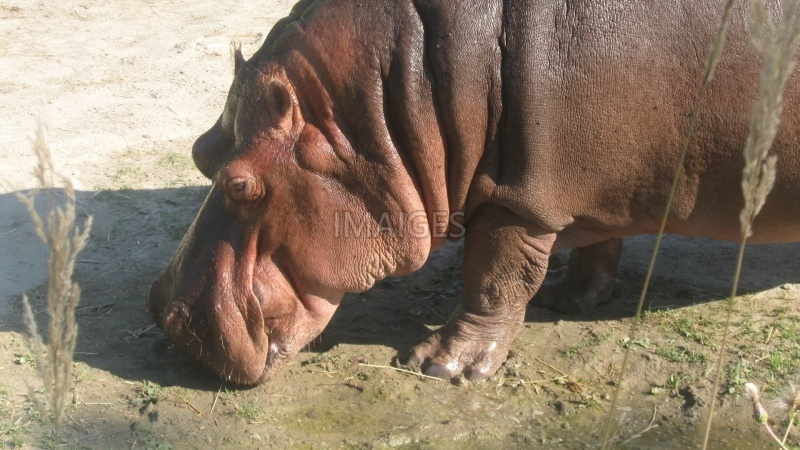hipopotamo: (147, 0, 800, 385)
